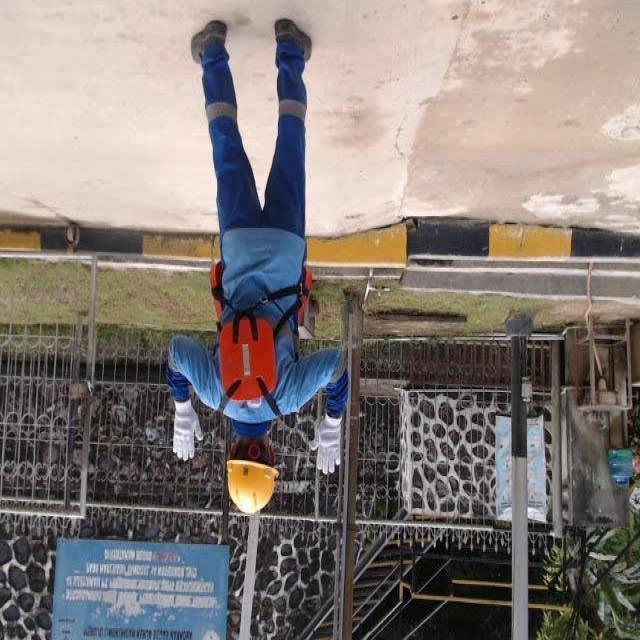helmet: (221, 453, 283, 521)
